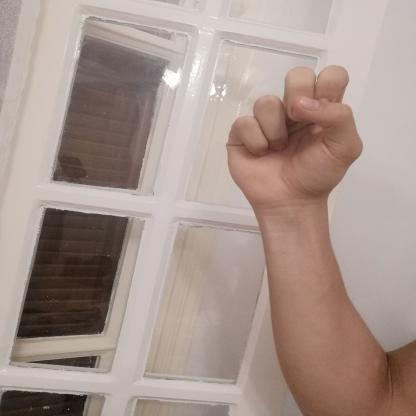QAAF: (213, 57, 375, 217)
